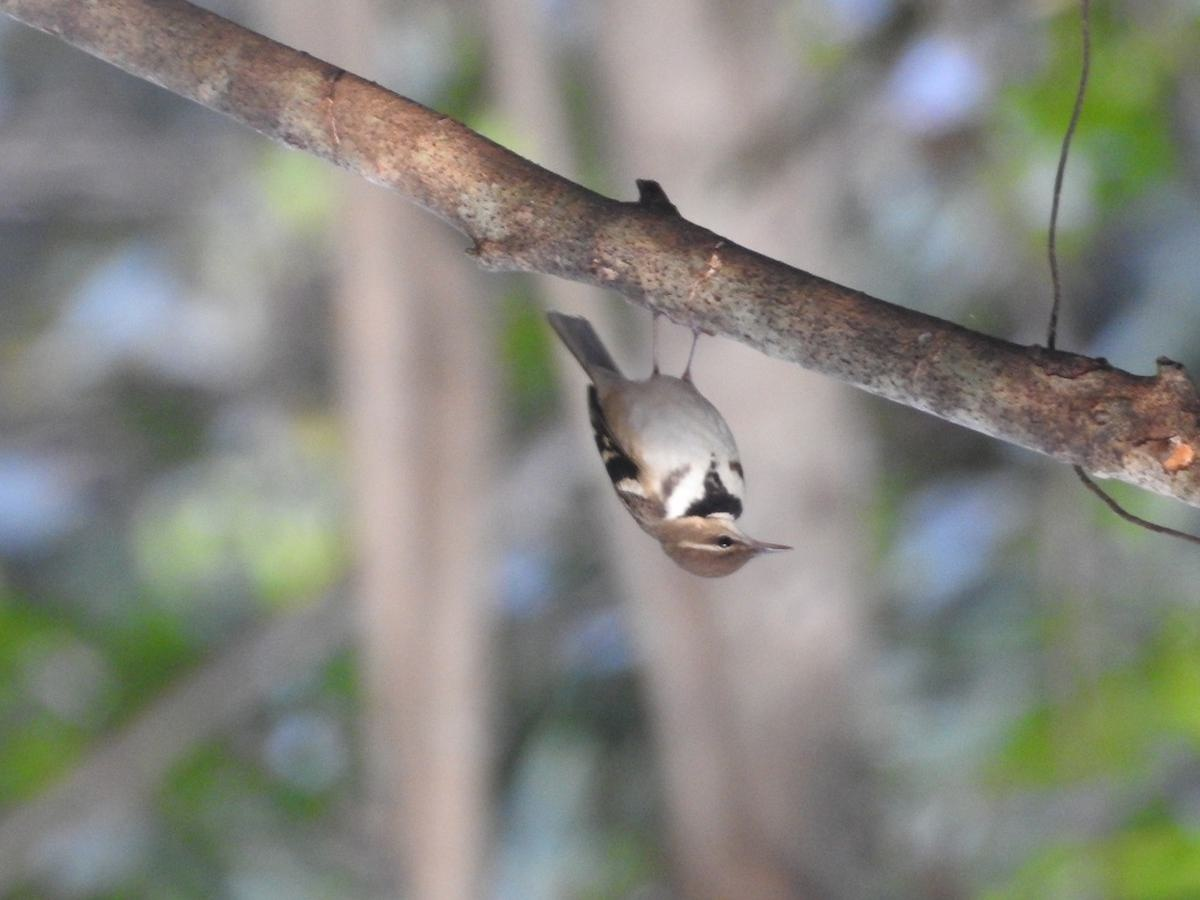wagtail: (551, 314, 805, 577)
